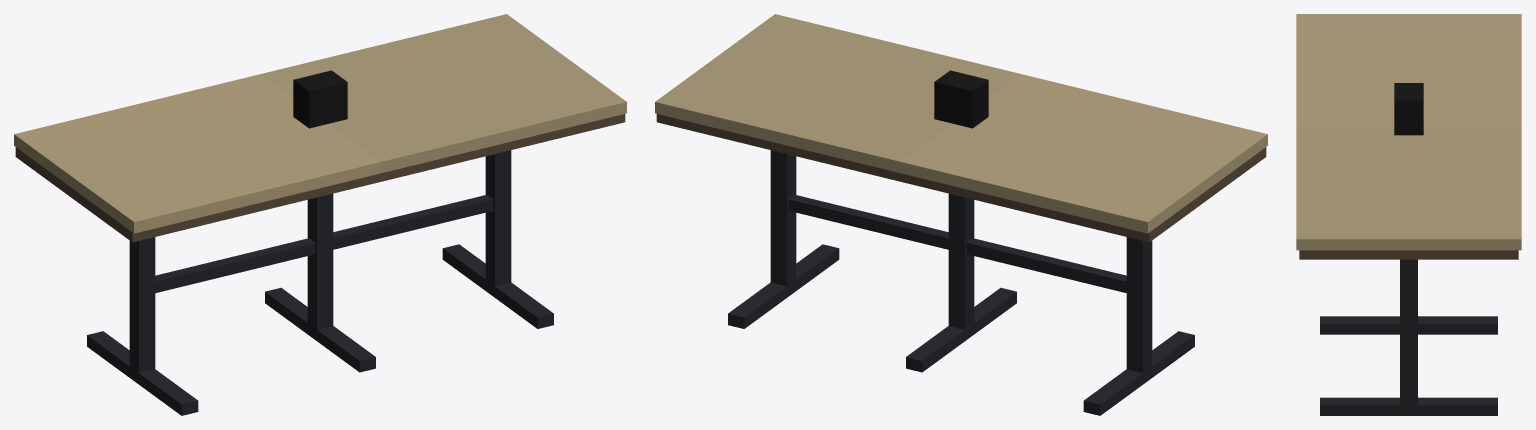
Rendered from table.mess_small.bare.glb.
The picture shows the model from 3 angles, left to right: view 1: azimuth 30°, elevation 25°; view 2: azimuth 150°, elevation 25°; view 3: azimuth 270°, elevation 25°; orthographic projection. The views are drawn at different scales.
Visible parts, largest first — view 1: table_mess_small_bare; view 2: table_mess_small_bare; view 3: table_mess_small_bare.
Part boxes in pixels (<box>): table_mess_small_bare: <box>14,14,626,415</box>; table_mess_small_bare: <box>655,14,1267,415</box>; table_mess_small_bare: <box>1296,14,1521,415</box>.
Size of what is drawn, in the model's own units: 1.8 by 0.89 by 0.76.
